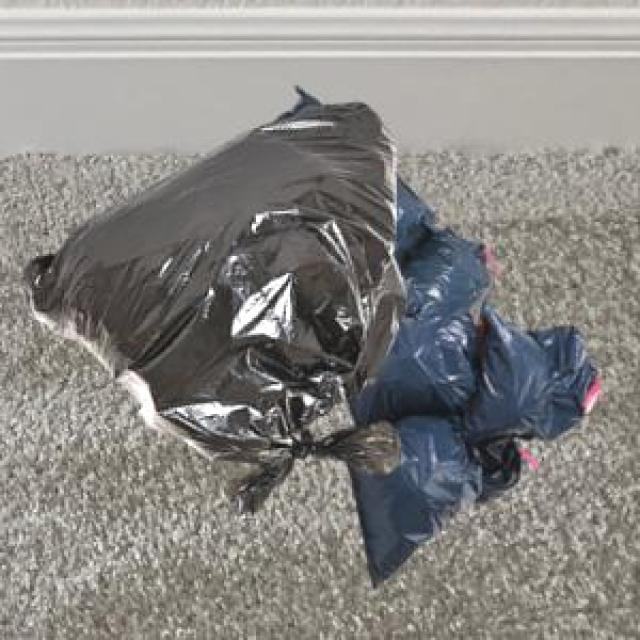Trashbag: (27, 84, 399, 446), (334, 410, 478, 594), (456, 299, 605, 455), (386, 170, 494, 320)
